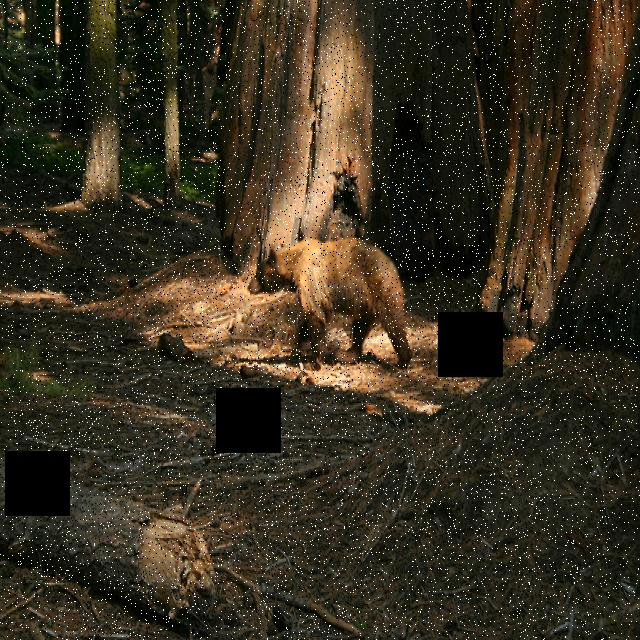Bear: (242, 241, 417, 371)
